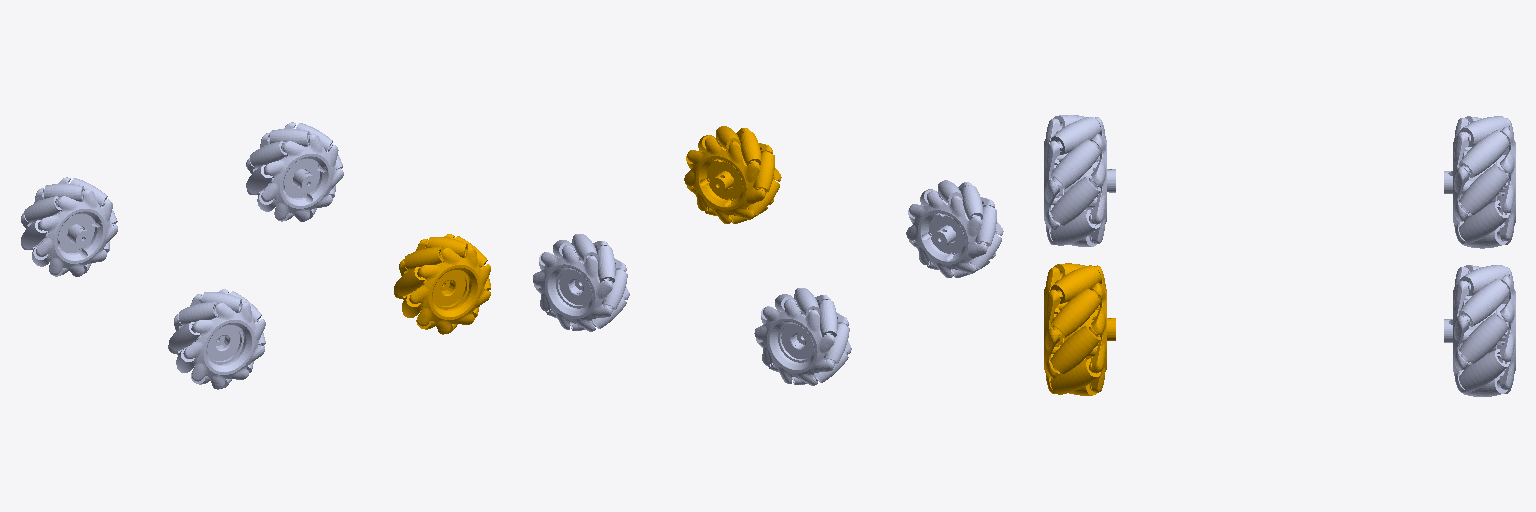
robot.urdf — dase7503_robot:
<?xml version="1.0" encoding="utf-8"?>
<!-- This URDF was automatically created by SolidWorks to URDF Exporter! Originally created by Stephen Brawner (brawner@gmail.com) Commit Version: 1.6.0-4-g7f85cfe Build Version: 1.6.7995.38578 For more information, please see http://wiki.ros.org/sw_urdf_exporter -->
<robot
  name="dase7503_robot">
  <link
    name="base_link">
    <inertial>
      <origin
        xyz="-0.592900839056894 0.404276681097129 1.35978008264956"
        rpy="0 0 0" />
      <mass
        value="0.335430972160816" />
      <inertia
        ixx="0.000291887661619938"
        ixy="-1.5472200765612E-07"
        ixz="-4.90344867325758E-06"
        iyy="0.000754727914292392"
        iyz="3.96811236147128E-08"
        izz="0.000483482787778785" />
    </inertial>
    <visual>
      <origin
        xyz="0.6 1.36 -0.4"
        rpy="0 0 0" />
      <geometry>
        <mesh
          filename="package://robot_description/meshes/base_link.STL" />
      </geometry>
      <material
        name="">
        <color
          rgba="0.792156862745098 0.819607843137255 0.933333333333333 1" />
      </material>
    </visual>
    <collision>
      <origin
        xyz="0.6 1.36 -0.4"
        rpy="0 0 0" />
      <geometry>
        <mesh
          filename="package://robot_description/meshes/base_link.STL" />
      </geometry>
    </collision>
  </link>
  <link
    name="wheel_LB">
    <inertial>
      <origin
        xyz="9.44450880679959E-06 1.05759827498941E-05 0.0994087020253061"
        rpy="0 0 0" />
      <mass
        value="0.0404606277128343" />
      <inertia
        ixx="4.21012163225031E-06"
        ixy="3.40317520358418E-09"
        ixz="-2.72528443608535E-09"
        iyy="4.20410901748538E-06"
        iyz="1.2425278316233E-09"
        izz="6.20724753034075E-06" />
    </inertial>
    <visual>
      <origin
        xyz="0 0 0"
        rpy="0 0 0" />
      <geometry>
        <mesh
          filename="package://robot_description/meshes/wheel_LB.STL" />
      </geometry>
      <material
        name="">
        <color
          rgba="0.792156862745098 0.819607843137255 0.933333333333333 1" />
      </material>
    </visual>
    <collision>
      <origin
        xyz="0 0 0"
        rpy="0 0 0" />
      <geometry>
        <mesh
          filename="package://robot_description/meshes/wheel_LB.STL" />
      </geometry>
    </collision>
  </link>
  <joint
    name="wheel_LB_joint"
    type="continuous">
    <origin
      xyz="-0.083780717968666 -0.00162960944325 -0.014654250230174"
      rpy="-1.5707963267949 1.29883288504929 0" />
    <parent
      link="base_link" />
    <child
      link="wheel_LB" />
    <axis
      xyz="0 0 1" />
  </joint>
  <link
    name="wheel_LF">
    <inertial>
      <origin
        xyz="9.44470287467247E-06 1.05757341543056E-05 0.0994087018972685"
        rpy="0 0 0" />
      <mass
        value="0.0404606280711658" />
      <inertia
        ixx="4.21012171228835E-06"
        ixy="3.4031576855141E-09"
        ixz="-2.72526602303515E-09"
        iyy="4.20410913181285E-06"
        iyz="1.24250256355379E-09"
        izz="6.20724772357259E-06" />
    </inertial>
    <visual>
      <origin
        xyz="0 0 0"
        rpy="0 0 0" />
      <geometry>
        <mesh
          filename="package://robot_description/meshes/wheel_LF.STL" />
      </geometry>
      <material
        name="">
        <color
          rgba="0.792156862745098 0.819607843137255 0.933333333333333 1" />
      </material>
    </visual>
    <collision>
      <origin
        xyz="0 0 0"
        rpy="0 0 0" />
      <geometry>
        <mesh
          filename="package://robot_description/meshes/wheel_LF.STL" />
      </geometry>
    </collision>
  </link>
  <joint
    name="wheel_LF_joint"
    type="continuous">
    <origin
      xyz="0.088056637912057 -0.00162960944325 -0.014654250230174"
      rpy="-1.5707963267949 1.29883288504929 0" />
    <parent
      link="base_link" />
    <child
      link="wheel_LF" />
    <axis
      xyz="0 0 1" />
  </joint>
  <link
    name="wheel_RF">
    <inertial>
      <origin
        xyz="1.34674038243521E-05 0.00715870212743797 -4.43680851242023E-06"
        rpy="0 0 0" />
      <mass
        value="0.0404606270341083" />
      <inertia
        ixx="4.21156564733478E-06"
        ixy="-1.73887085003948E-09"
        ixz="9.02196046008064E-10"
        iyy="6.20724717462069E-06"
        iyz="-2.43869343948442E-09"
        izz="4.20266462386971E-06" />
    </inertial>
    <visual>
      <origin
        xyz="0 0 0"
        rpy="0 0 0" />
      <geometry>
        <mesh
          filename="package://robot_description/meshes/wheel_RF.STL" />
      </geometry>
      <material
        name="">
        <color
          rgba="0.937254901960784 0.674509803921569 0 1" />
      </material>
    </visual>
    <collision>
      <origin
        xyz="0 0 0"
        rpy="0 0 0" />
      <geometry>
        <mesh
          filename="package://robot_description/meshes/wheel_RF.STL" />
      </geometry>
    </collision>
  </link>
  <joint
    name="wheel_RF_joint"
    type="continuous">
    <origin
      xyz="0.086393993792781 -0.09337960944325 -0.014654250230174"
      rpy="3.14159265358979 1.3191609929422 0" />
    <parent
      link="base_link" />
    <child
      link="wheel_RF" />
    <axis
      xyz="0 1 0" />
  </joint>
  <link
    name="wheel_RB">
    <inertial>
      <origin
        xyz="9.44437084834937E-06 1.05756936449319E-05 0.0994087021585537"
        rpy="0 0 0" />
      <mass
        value="0.0404606279200177" />
      <inertia
        ixx="4.2101217515905E-06"
        ixy="3.40316556091346E-09"
        ixz="-2.72528841727067E-09"
        iyy="4.20410900258654E-06"
        iyz="1.24249822542737E-09"
        izz="6.20724764119687E-06" />
    </inertial>
    <visual>
      <origin
        xyz="0 0 0"
        rpy="0 0 0" />
      <geometry>
        <mesh
          filename="package://robot_description/meshes/wheel_RB.STL" />
      </geometry>
      <material
        name="">
        <color
          rgba="0.792156862745098 0.819607843137255 0.933333333333333 1" />
      </material>
    </visual>
    <collision>
      <origin
        xyz="0 0 0"
        rpy="0 0 0" />
      <geometry>
        <mesh
          filename="package://robot_description/meshes/wheel_RB.STL" />
      </geometry>
    </collision>
  </link>
  <joint
    name="wheel_RB_joint"
    type="continuous">
    <origin
      xyz="-0.085443362087943 -0.00112960944325 -0.014654250230174"
      rpy="-1.5707963267949 1.29883288504929 -3.14159265358979" />
    <parent
      link="base_link" />
    <child
      link="wheel_RB" />
    <axis
      xyz="0 0 1" />
  </joint>
  <!--IMU-->
  <joint name="imu_fixed" type="fixed">
    <parent link="base_link" />
    <child link="imu_link" />
    <origin rpy="0 0 0" xyz="0 0 0" />
  </joint>
  <link name="imu_link"> </link>
  <!--Camera-->
  <joint name="cam_fixed" type="fixed">
    <parent link="base_link" />
    <child link="cam_link" />
    <origin rpy="0 0 0" xyz="0.1 0 0.06" />
  </joint>
  <link name="cam_link"> </link>
  <!--Lidar-->
  <joint name="lidar_fixed" type="fixed">
    <parent link="base_link" />
    <child link="lidar_link" />
    <origin rpy="0 0 0" xyz="0.05 -0.05 0.03" />
  </joint>
  <link name="lidar_link"> </link>
</robot>

--- What the picture shows (computed from the rendered views, not written in the file) ---
The picture shows the robot from 3 angles, left to right: view 1: azimuth 30°, elevation 25°; view 2: azimuth 150°, elevation 25°; view 3: azimuth 270°, elevation 25°; orthographic projection.
Model dase7503_robot with 8 links and 7 joints (4 continuous, 3 fixed), rooted at base_link, posed every joint at zero.
Visible links, largest first — view 1: wheel_LF, wheel_RF, wheel_RB, wheel_LB; view 2: wheel_LF, wheel_LB, wheel_RF, wheel_RB; view 3: wheel_RF, wheel_RB, wheel_LF, wheel_LB.
Link boxes in pixels (bbox=[...]): wheel_LF: bbox=[246, 122, 343, 221]; wheel_RF: bbox=[394, 234, 490, 334]; wheel_RB: bbox=[168, 289, 265, 389]; wheel_LB: bbox=[21, 177, 117, 276]; wheel_LF: bbox=[533, 234, 629, 331]; wheel_LB: bbox=[754, 288, 851, 385]; wheel_RF: bbox=[684, 126, 781, 223]; wheel_RB: bbox=[906, 180, 1003, 277]; wheel_RF: bbox=[1044, 263, 1115, 395]; wheel_RB: bbox=[1044, 115, 1115, 246]; wheel_LF: bbox=[1444, 265, 1515, 396]; wheel_LB: bbox=[1444, 116, 1515, 248].
Bounding box of the posed robot: 0.2382 × 0.23 × 0.0647 m (x, y, z).
4 mesh visuals loaded from 5 distinct referenced files (4 binary STL); not drawn: 1 (reference not matched to a file when rendering).
